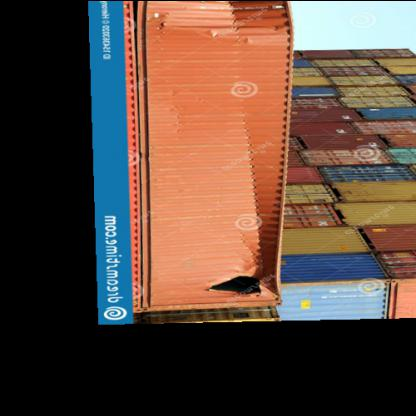Damage: (200, 268, 284, 298)
